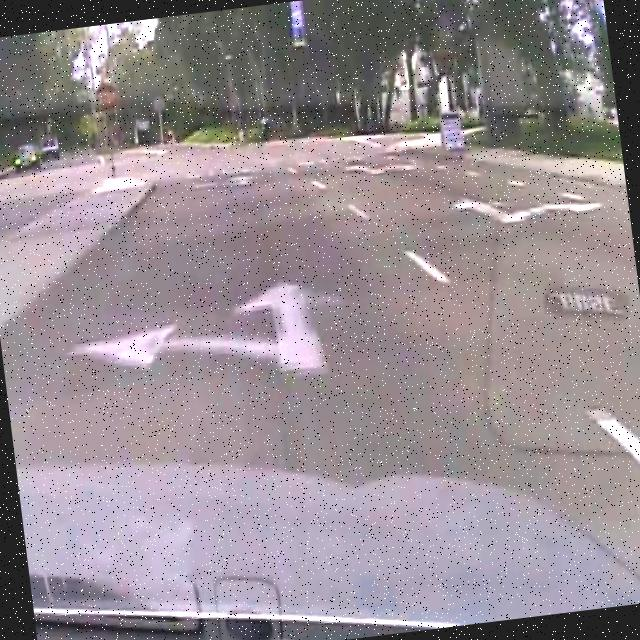Stop: (92, 82, 122, 115)
